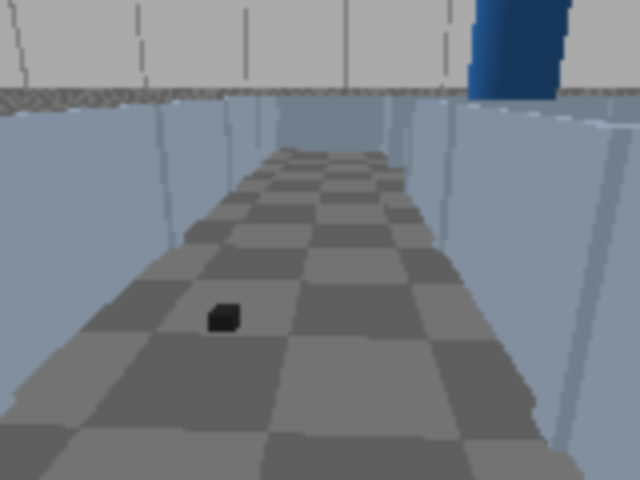puck: (209, 304, 241, 334)
